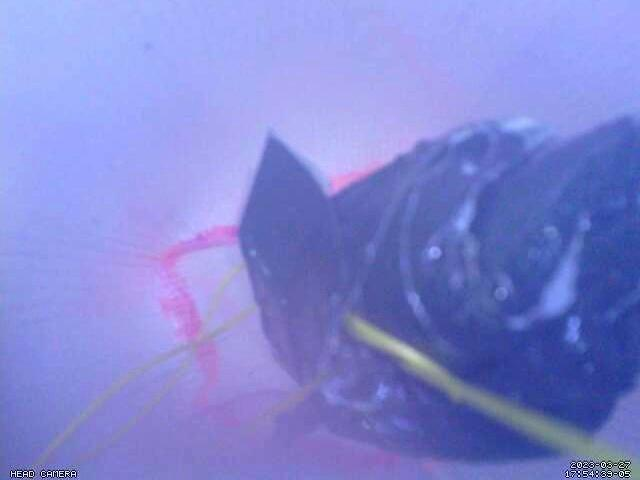head: (155, 159, 403, 469)
